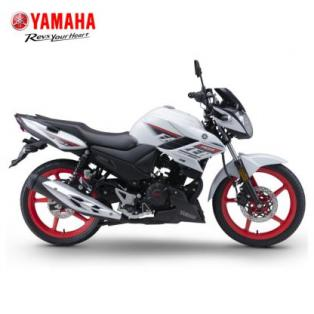Motocicleta: (11, 54, 310, 250)
